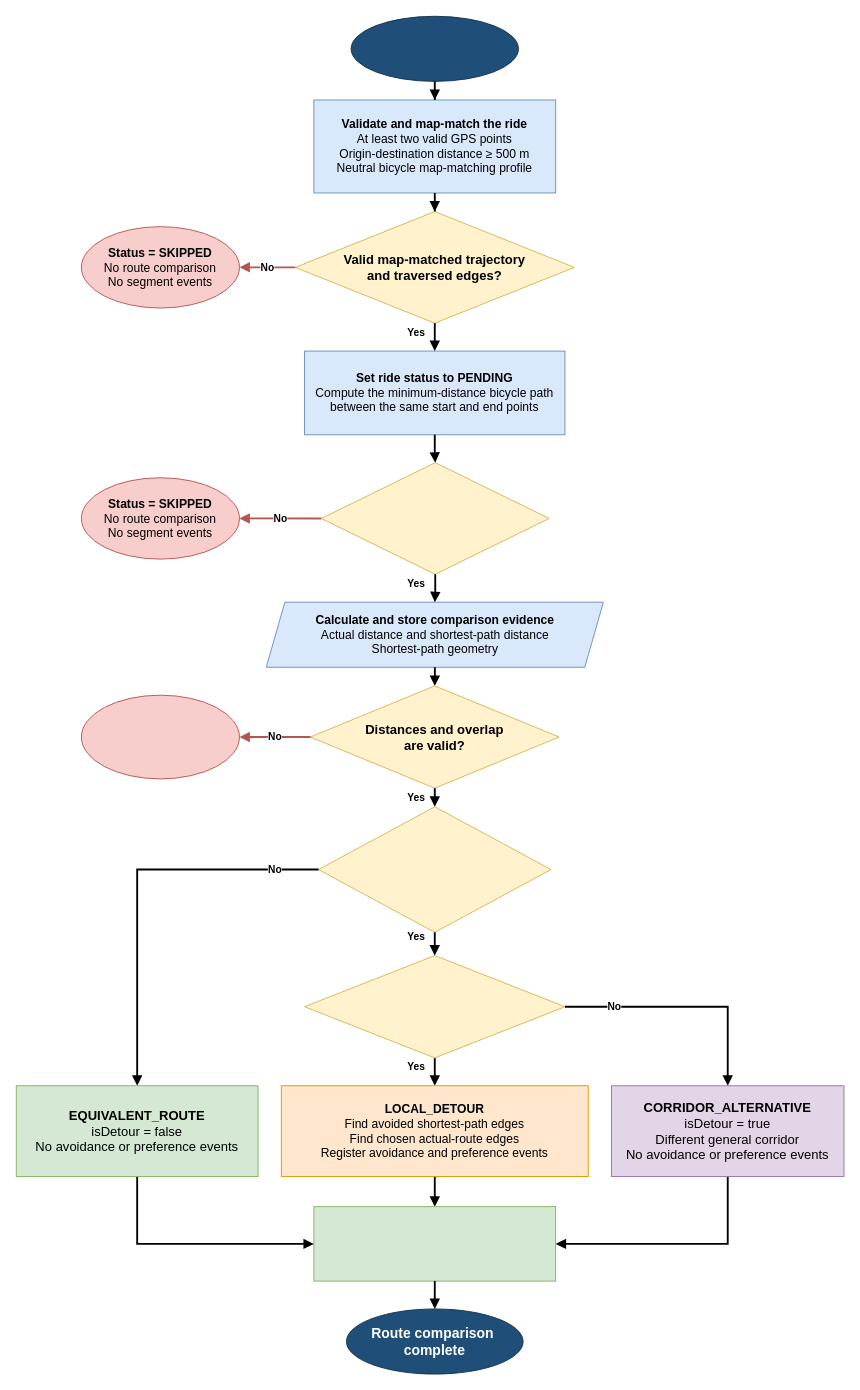
This 860x1390 diagram has some shape labels left out. Each missing label, with the centre of its shape:
"Does the observed route exceed 10% or 500 m additional distance?" belongs at [434,869].
"Imported SimRa ride" belongs at [434,48].
"Set status = PROCESSED Classify ride intent Commit the analysis transaction" belongs at [434,1243].
"Shortest path available?" belongs at [434,518].
"Spatial overlap ≥ 30%?" belongs at [434,1006].
"Status = ERROR No route comparison" belongs at [159,736].
